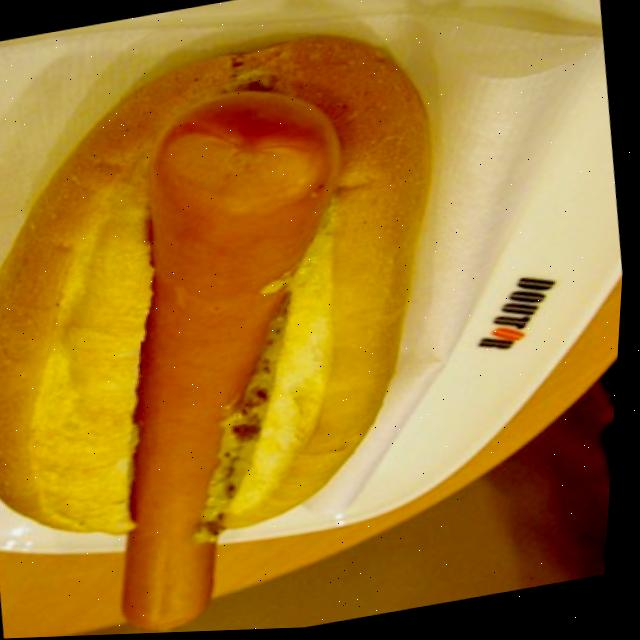汉堡快餐: (0, 2, 530, 640)
